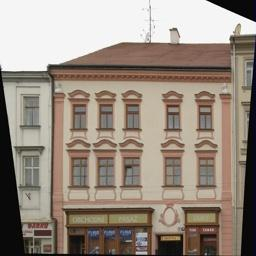building: (48, 37, 231, 255)
